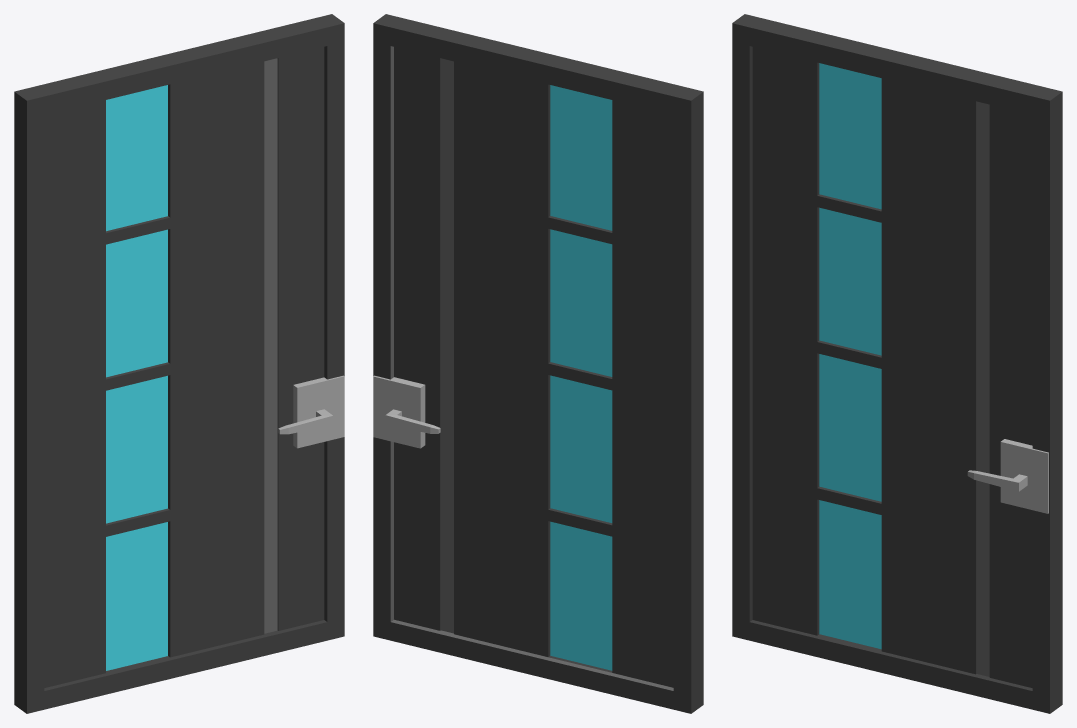
Rendered from SM_Buildings_Office_05_Door.fbx.
3 renders of one model, left to right at view 1: azimuth 30°, elevation 25°; view 2: azimuth 150°, elevation 25°; view 3: azimuth 330°, elevation 25°, orthographic.
Parts seen in each view (by area): view 1: SM_Buildings_Office_05_Door; view 2: SM_Buildings_Office_05_Door; view 3: SM_Buildings_Office_05_Door.
Boxes of the visible parts, x1=… form: SM_Buildings_Office_05_Door: x1=14, y1=14, x2=344, y2=713; SM_Buildings_Office_05_Door: x1=373, y1=14, x2=703, y2=713; SM_Buildings_Office_05_Door: x1=732, y1=14, x2=1062, y2=713.
Bounding box in the file's own units: 1.23 × 2.26 × 0.2113.
